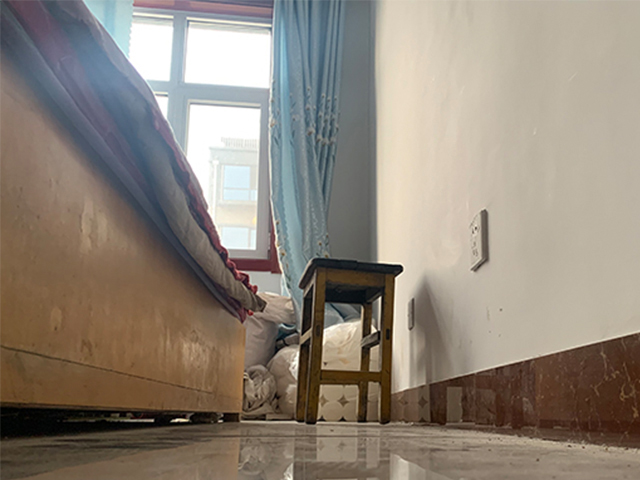bed: (1, 1, 267, 423)
curtain: (275, 2, 359, 323)
stool: (295, 257, 404, 425)
